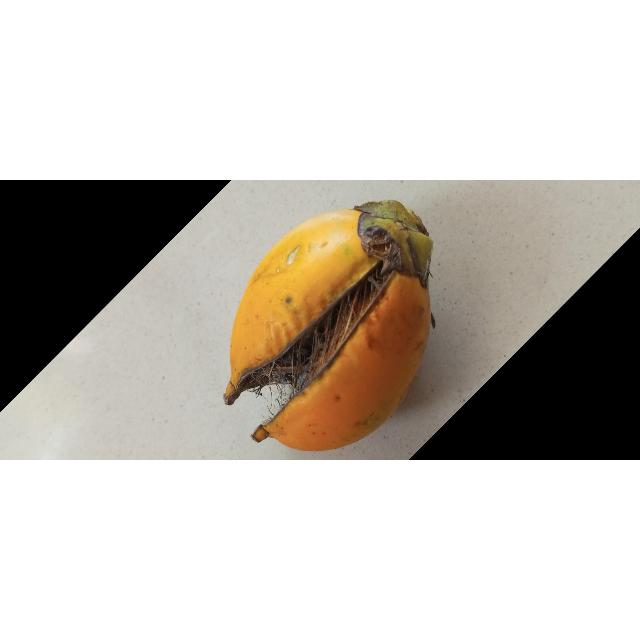damaged: (223, 200, 435, 452)
